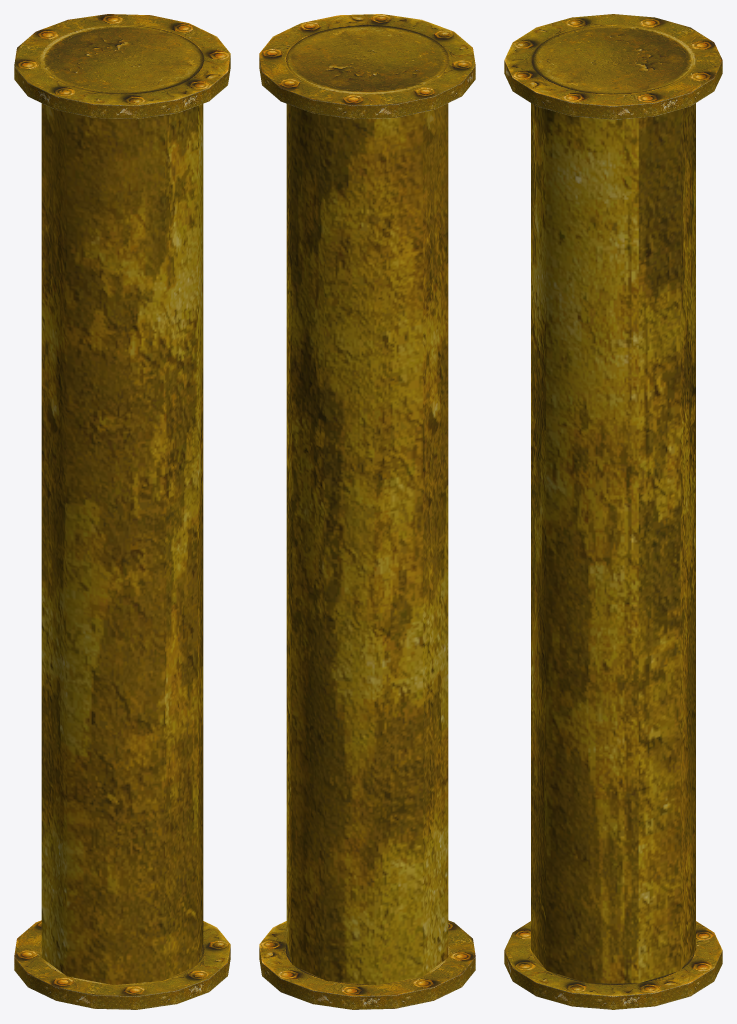
The model's file is 3m_yellow.DAE.
3 views of the same model, side by side, from view 1: azimuth 30°, elevation 25°; view 2: azimuth 150°, elevation 25°; view 3: azimuth 270°, elevation 25° (orthographic).
Visible parts, largest first — view 1: Object335, Object378; view 2: Object335, Object378; view 3: Object335, Object378.
Boxes of the visible parts, <box> form: Object335: <box>41,103,203,985</box>; Object378: <box>14,14,230,1009</box>; Object335: <box>286,103,448,985</box>; Object378: <box>259,14,475,1009</box>; Object335: <box>531,103,695,983</box>; Object378: <box>504,14,722,1009</box>.
Size of the model in its own units: 0.6566 by 0.6566 by 3.
